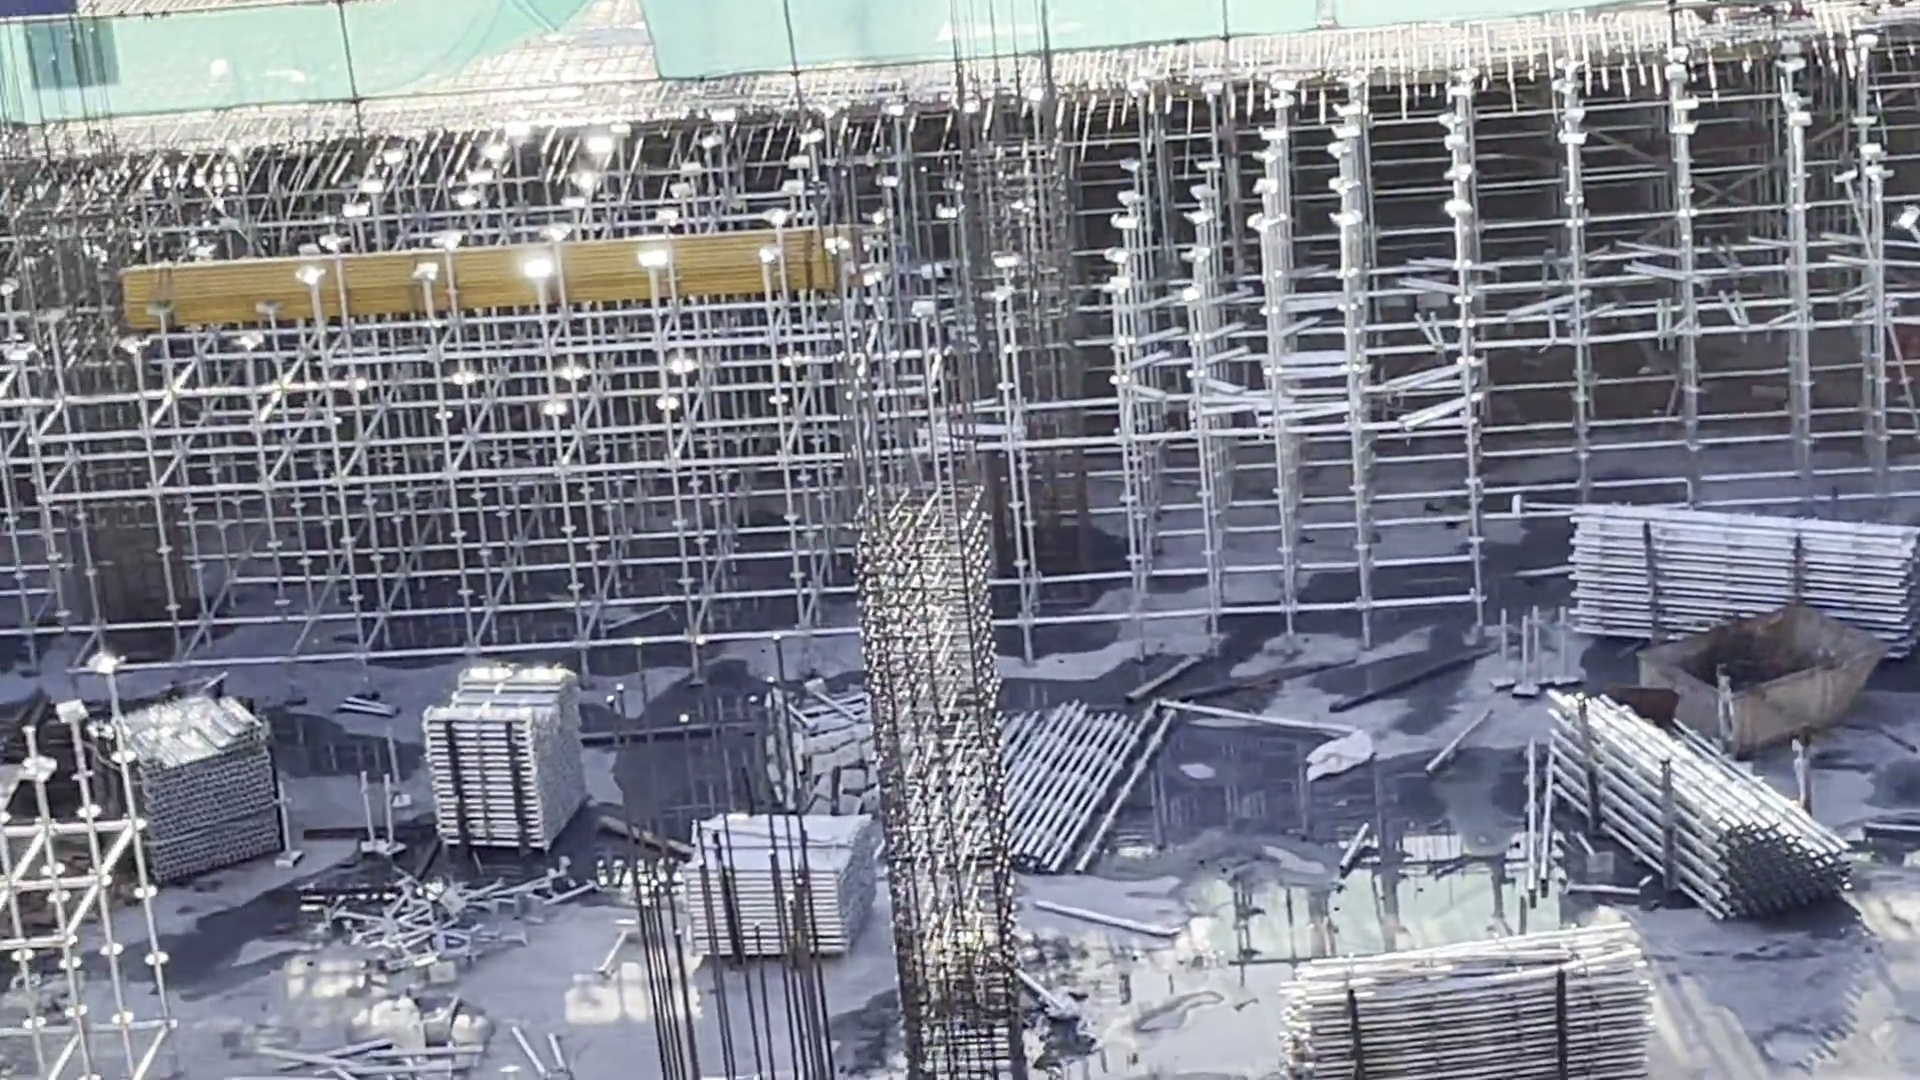scaffold: (1531, 676, 1855, 915), (1548, 493, 1913, 663), (1274, 923, 1656, 1080), (978, 696, 1188, 884), (409, 653, 597, 849), (119, 698, 293, 878), (683, 804, 889, 953)
